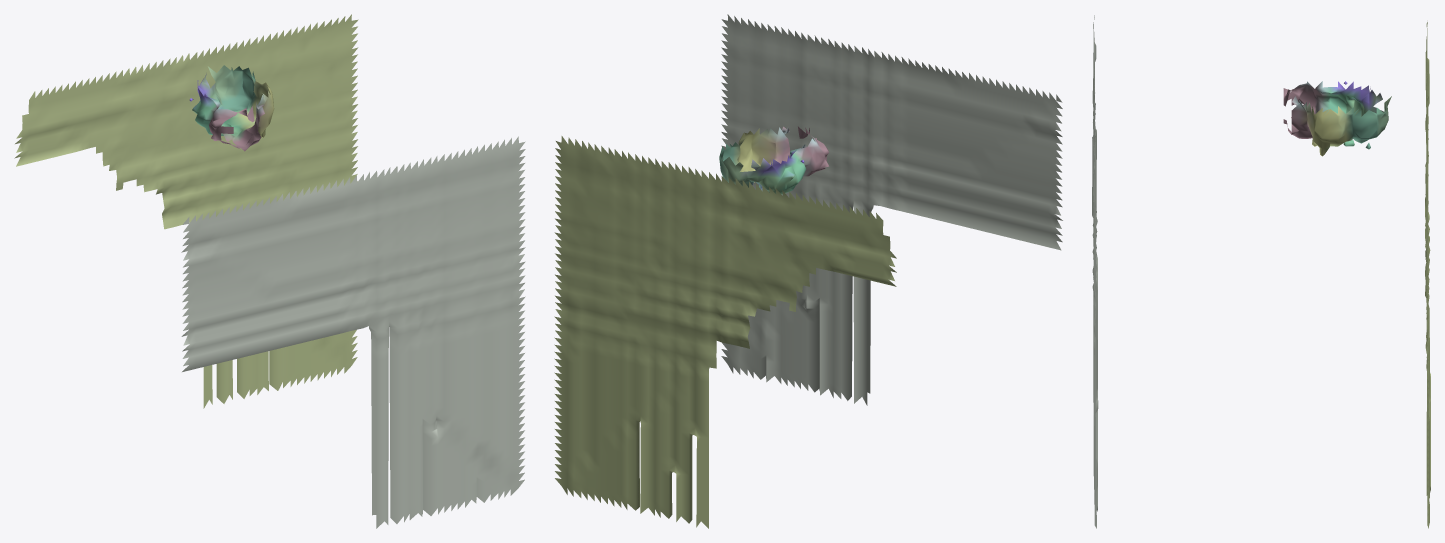
Rendered from tile_7e4ccbd5fe0e_0_-1_-1_0_lod0.glb.
3 views of the same model, side by side, from view 1: azimuth 30°, elevation 25°; view 2: azimuth 150°, elevation 25°; view 3: azimuth 270°, elevation 25° (orthographic).
Bounding box in the file's own units: 4.08 × 4.08 × 3.5.
